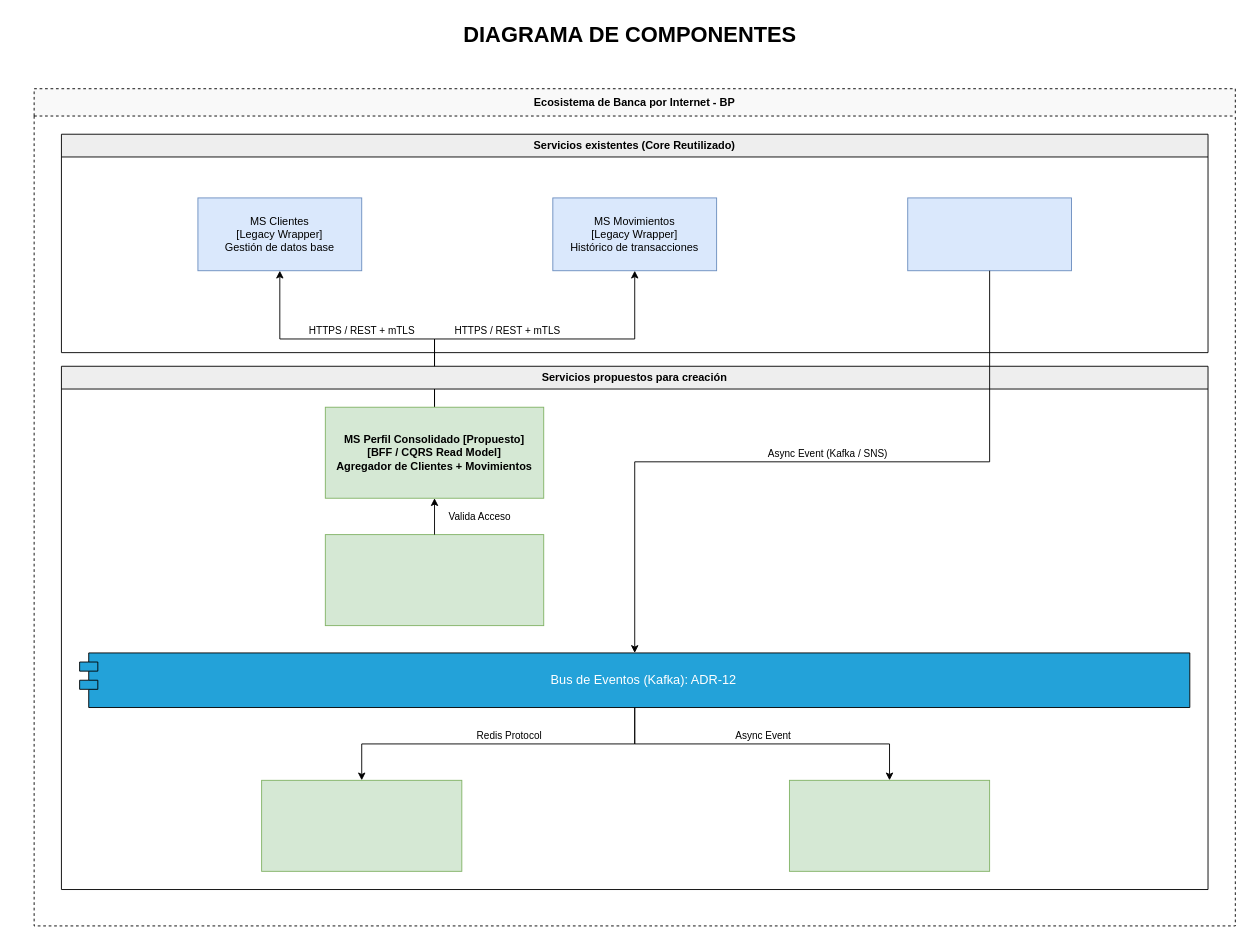
This 1259x942 diagram has some shape labels left out. The centre of each missing label's shape, as x and y in pixels:
MS Auditoría [Propuesto] [Event Sourcing] Trazabilidad Inmutable SIEM: (361,825)
MS Autenticación [Propuesto] [OAuth2 / OIDC + PKCE] Gestión de Identidad y MFA: (434,580)
MS Notificaciones [Propuesto] [Event-Driven Dispatcher] Push, SMS, Email: (889,825)
MS Transferencias [Core Component] Ejecución contable: (989,234)
